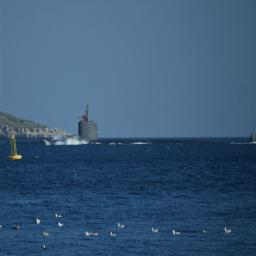submarine: (67, 123, 101, 144)
